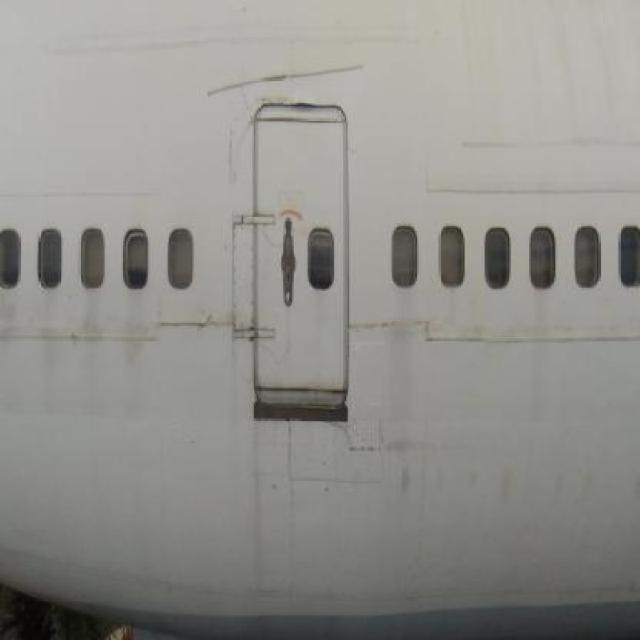Missing-Rivet: (228, 212, 260, 345)
Scartch: (198, 56, 372, 102), (148, 311, 227, 340), (224, 123, 242, 188)
